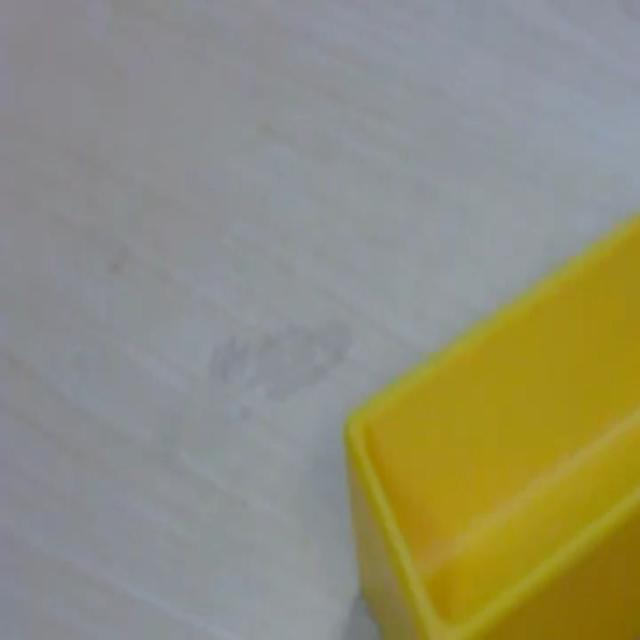yellow_block: (342, 211, 639, 636)
